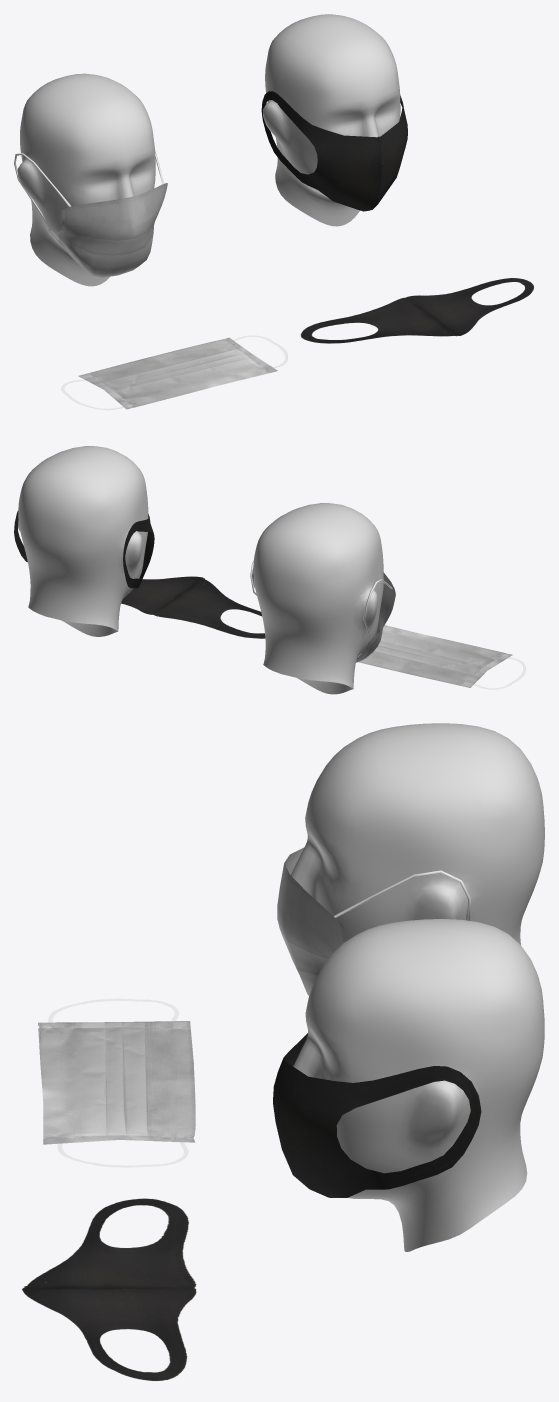
The model's file is face_masks.glb.
The picture shows the model from 3 angles, top to bottom: view 1: azimuth 30°, elevation 25°; view 2: azimuth 150°, elevation 25°; view 3: azimuth 270°, elevation 25°; orthographic projection. The views are drawn at different scales.
Parts seen in each view (by area): view 1: basicHead, basicHead1, BlackMask:blackmask, MedicalMask1:pmedmask, MedicalMask1:medmask, BlackMask:pblackmask; view 2: basicHead, basicHead1, MedicalMask1:pmedmask, BlackMask:pblackmask, BlackMask:blackmask, MedicalMask1:medmask; view 3: basicHead1, basicHead, MedicalMask1:pmedmask, BlackMask:pblackmask, BlackMask:blackmask, MedicalMask1:medmask.
Part boxes in pixels (left/top/right/bottom): basicHead: left=17, top=73, right=155, bottom=286; basicHead1: left=263, top=14, right=400, bottom=226; BlackMask:blackmask: left=261, top=91, right=407, bottom=211; MedicalMask1:pmedmask: left=78, top=337, right=277, bottom=409; MedicalMask1:medmask: left=48, top=183, right=167, bottom=277; BlackMask:pblackmask: left=300, top=278, right=534, bottom=343; basicHead: left=252, top=503, right=383, bottom=694; basicHead1: left=18, top=446, right=148, bottom=636; MedicalMask1:pmedmask: left=358, top=625, right=512, bottom=687; BlackMask:pblackmask: left=121, top=576, right=265, bottom=638; BlackMask:blackmask: left=14, top=510, right=154, bottom=588; MedicalMask1:medmask: left=356, top=572, right=395, bottom=662; basicHead1: left=293, top=919, right=544, bottom=1251; basicHead: left=291, top=723, right=544, bottom=944; MedicalMask1:pmedmask: left=38, top=1021, right=195, bottom=1144; BlackMask:pblackmask: left=22, top=1198, right=196, bottom=1380; BlackMask:blackmask: left=273, top=1033, right=481, bottom=1197; MedicalMask1:medmask: left=277, top=847, right=346, bottom=995.
Size of the model in its own units: 4.01 by 1.76 by 2.34.
Materials: 5 (4 with a texture image).
